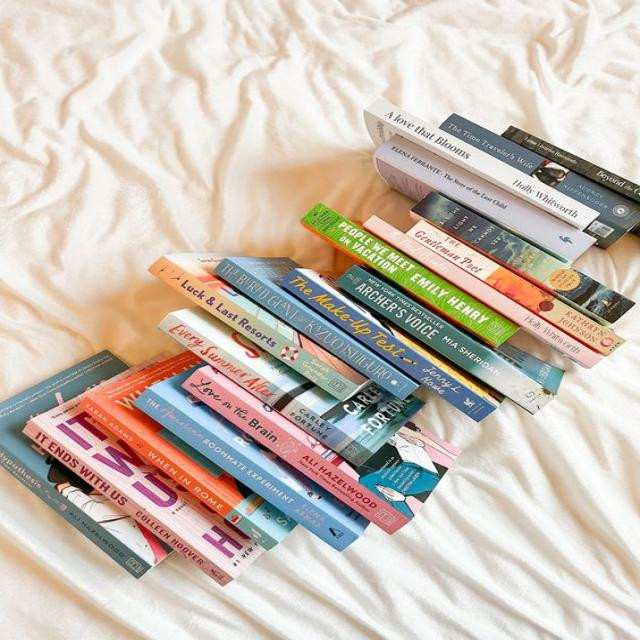book: (181, 370, 411, 536), (361, 215, 601, 367), (132, 389, 357, 551), (23, 420, 234, 587), (334, 265, 555, 415), (157, 313, 372, 467), (280, 270, 495, 423), (300, 202, 521, 348), (147, 256, 358, 403), (365, 99, 601, 228), (81, 396, 278, 550), (405, 220, 625, 356), (409, 191, 635, 323), (213, 258, 419, 400), (374, 135, 597, 263), (437, 113, 640, 230), (1, 444, 152, 579), (502, 127, 640, 202)
